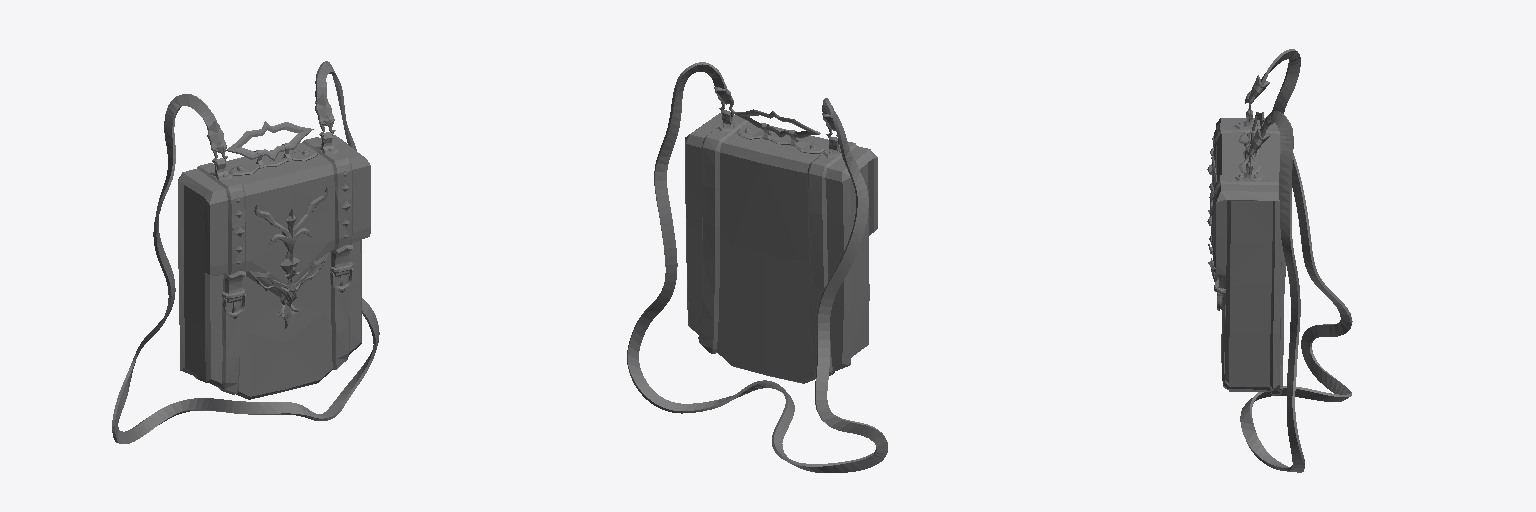
The model's file is bag.obj.
3 renders of one model, left to right at view 1: azimuth 30°, elevation 25°; view 2: azimuth 150°, elevation 25°; view 3: azimuth 270°, elevation 25°, orthographic.
Visible parts, largest first — view 1: Base_mesh_belt1:belt1; view 2: Base_mesh_belt1:belt1; view 3: Base_mesh_belt1:belt1.
Part boxes in pixels (x1,y1,x2,y2): Base_mesh_belt1:belt1: (112, 61, 379, 443); Base_mesh_belt1:belt1: (627, 62, 887, 472); Base_mesh_belt1:belt1: (1207, 49, 1352, 472).
Size of the model in its own units: 36.94 by 47.37 by 17.59.